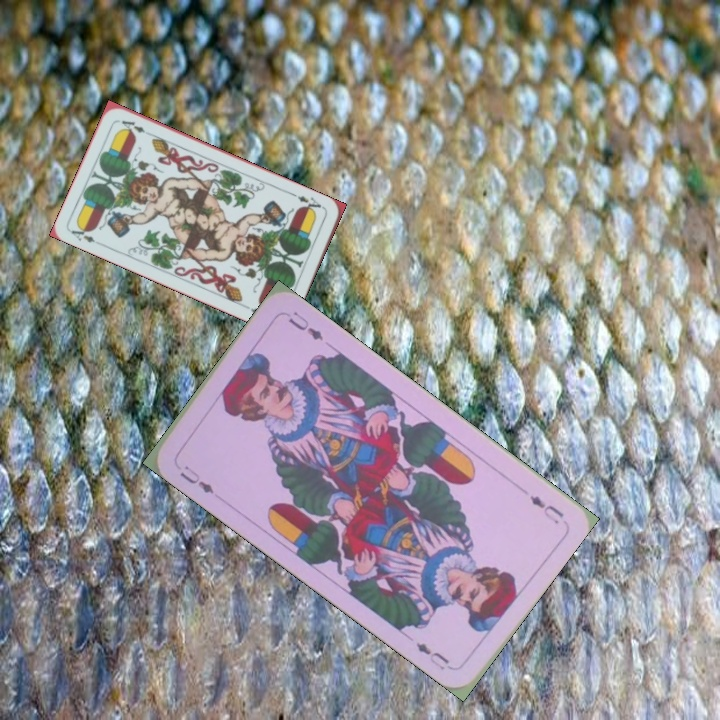EA: (66, 222, 106, 249), (289, 189, 327, 215)
EU: (175, 461, 217, 497), (525, 491, 567, 527)
